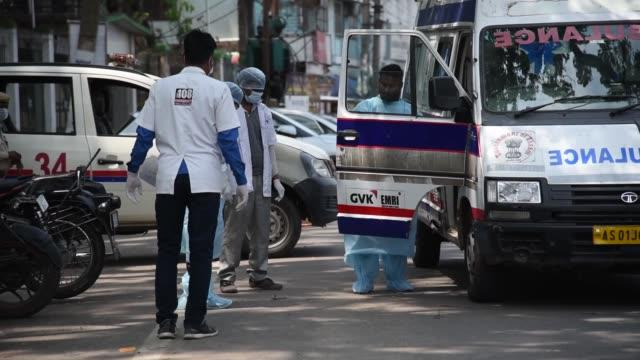Emergency-Vehicles: (393, 0, 640, 282), (0, 65, 336, 252)
